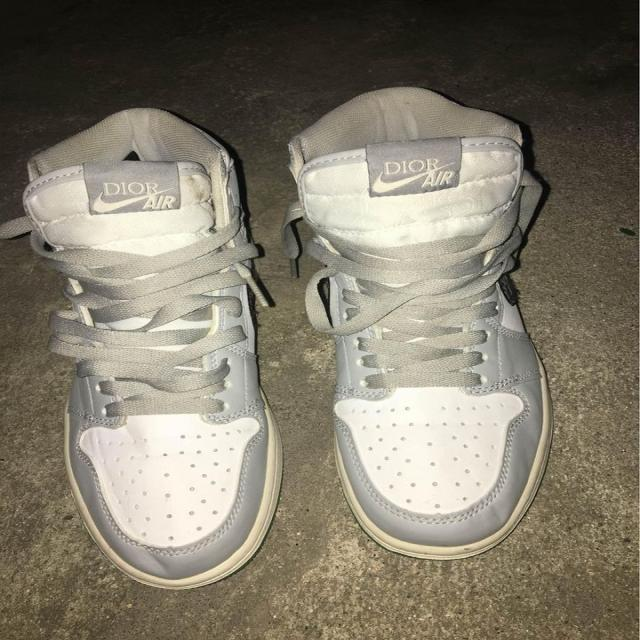nike fake jordan 1: (284, 85, 564, 567), (13, 114, 294, 588)
